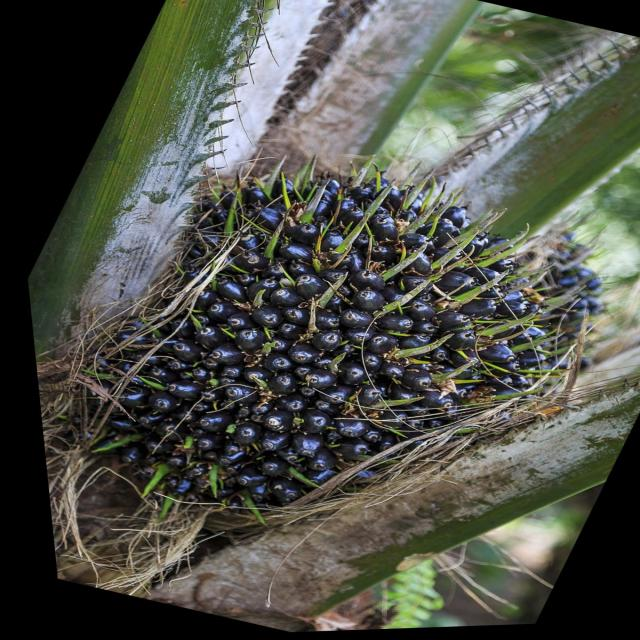Unripe: (11, 124, 636, 572)
